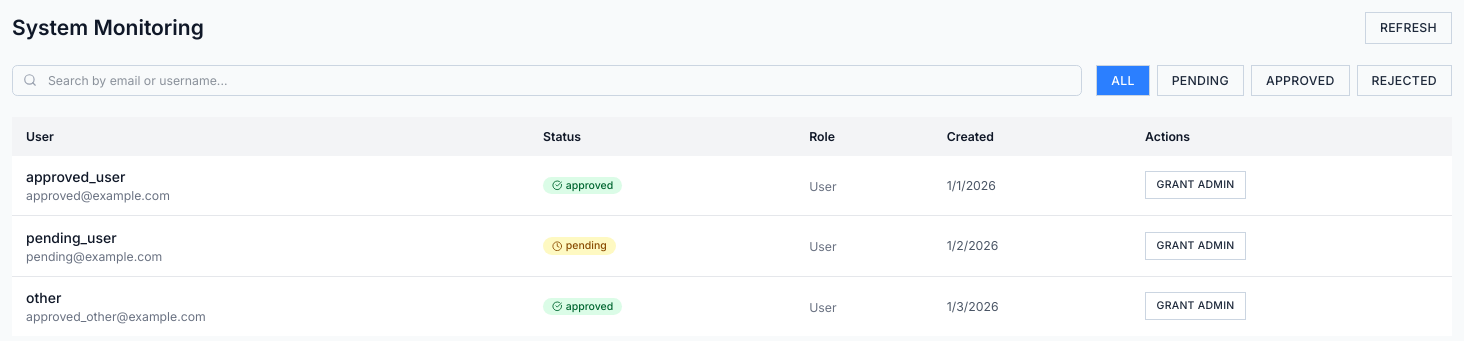
MonitoringPanel › applies both status filter and search term simultaneously
This screenshot has width=1464, height=341.
Expected: the text "approved@example.com" is shown, [26, 188, 170, 203]
Note: Filter by status 'approved'
Click the button "Approved" at (1300, 80), box [1251, 64, 1350, 96]
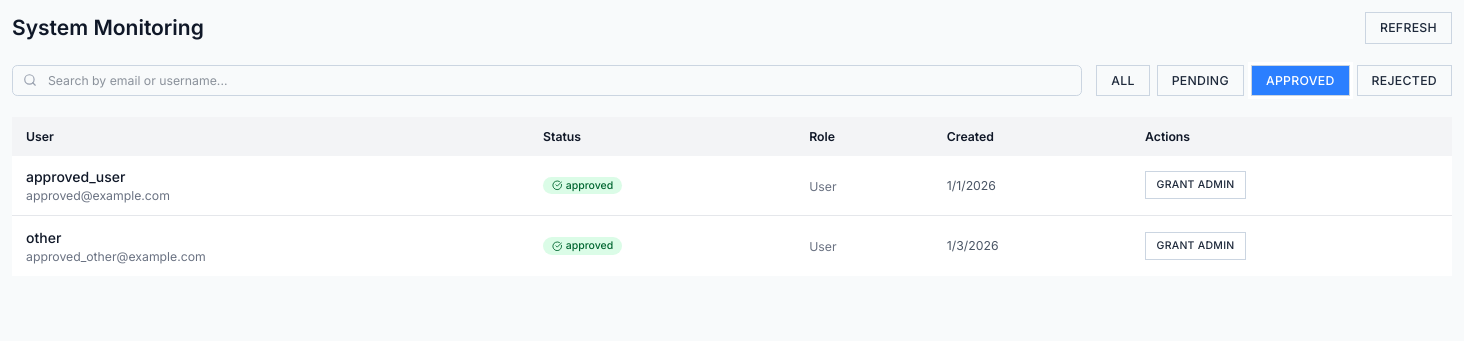
Note: Then also search for 'approved@'
Type "approved@" into the field with placeholder "Search by email or username..." at (547, 80), box [12, 64, 1082, 96]
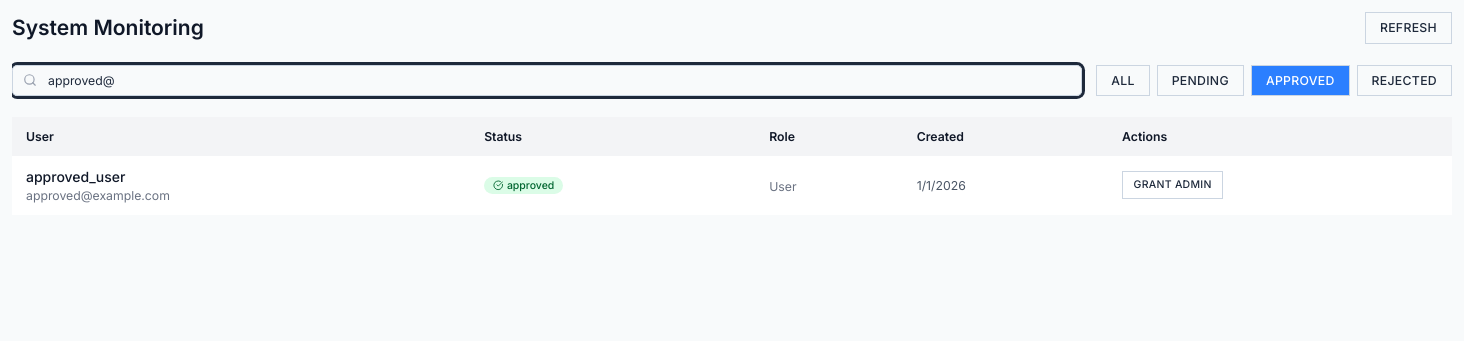
Expected: the text "approved@example.com" is shown, [26, 188, 170, 203]
Now the text "approved_other@example.com" is gone
